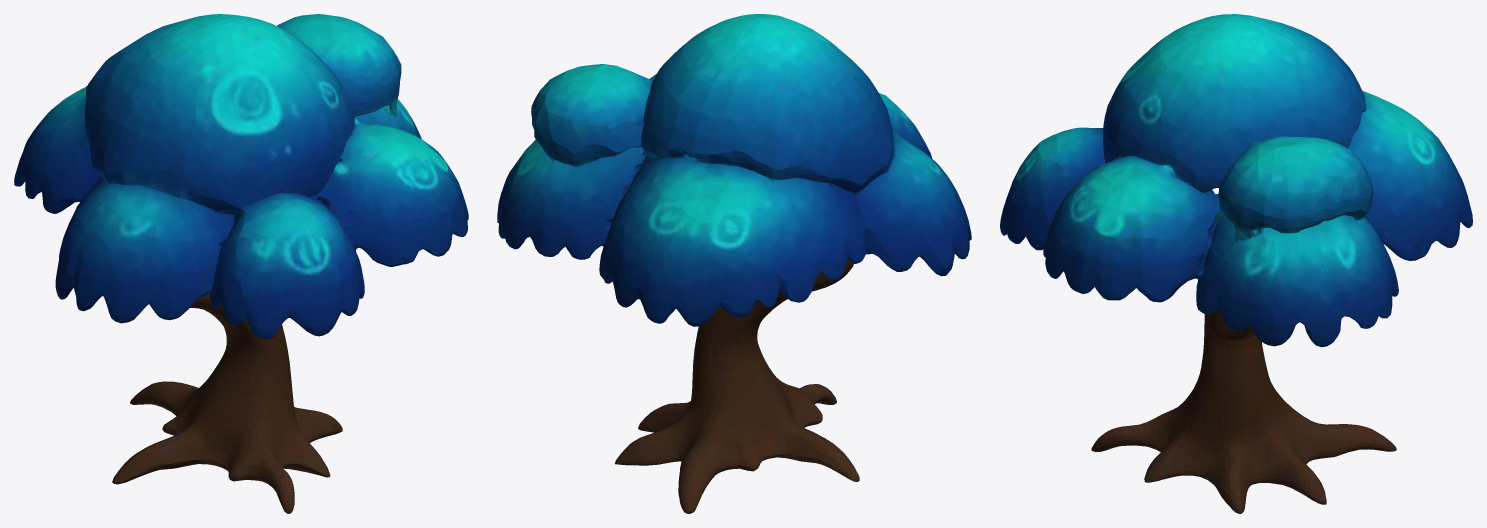
The model's file is familiarity_tree-4.glb.
3 renders of one model, left to right at view 1: azimuth 30°, elevation 25°; view 2: azimuth 150°, elevation 25°; view 3: azimuth 270°, elevation 25°, orthographic. The views are drawn at different scales.
Visible parts, largest first — view 1: world; view 2: world; view 3: world.
Boxes of the visible parts, x1,y1,x2,y2 form: world: [14, 14, 468, 513]; world: [497, 14, 971, 513]; world: [1000, 14, 1472, 513].
Bounding box in the file's own units: 0.9579 × 0.9982 × 0.9845.
Materials: 1 (1 with a texture image).
